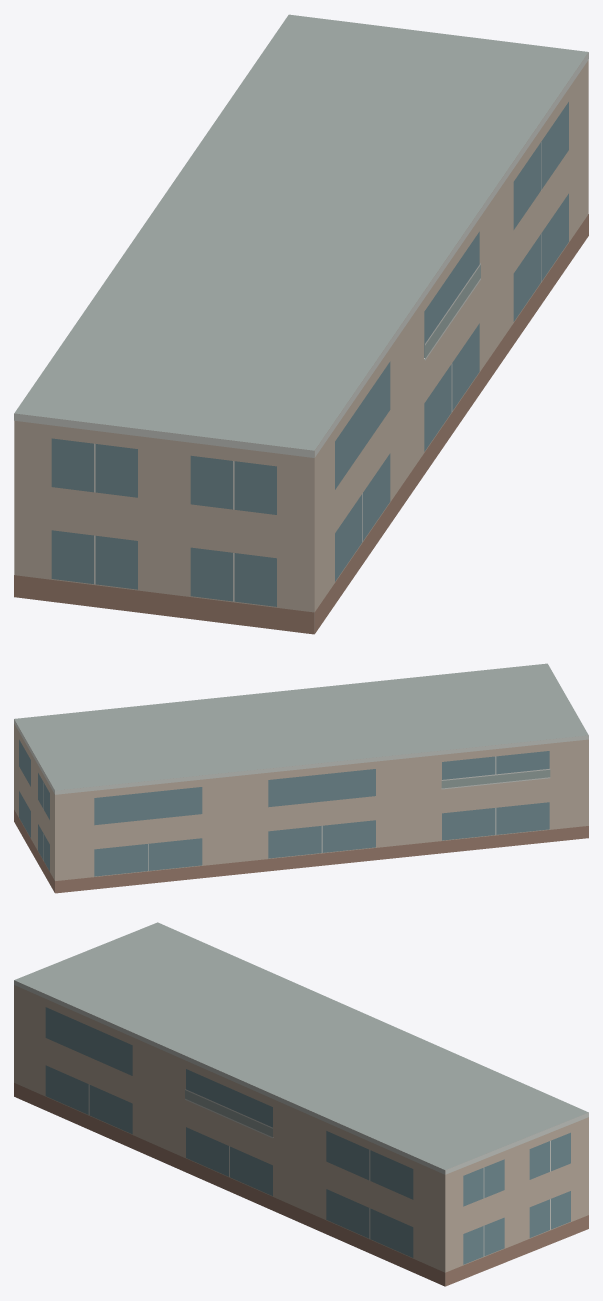
Rendered from survey-upis-32627329.glb.
3 renders of one model, top to bottom at view 1: azimuth 30°, elevation 25°; view 2: azimuth 150°, elevation 25°; view 3: azimuth 270°, elevation 25°, orthographic. The views are drawn at different scales.
Parts seen in each view (by area): view 1: survey-upis-32627329.tmp; view 2: survey-upis-32627329.tmp; view 3: survey-upis-32627329.tmp.
Part boxes in pixels (<box>): survey-upis-32627329.tmp: <box>14,14,588,634</box>; survey-upis-32627329.tmp: <box>14,663,588,893</box>; survey-upis-32627329.tmp: <box>14,922,588,1286</box>.
Bounding box in the file's own units: 27.86 × 6.1 × 27.3.
